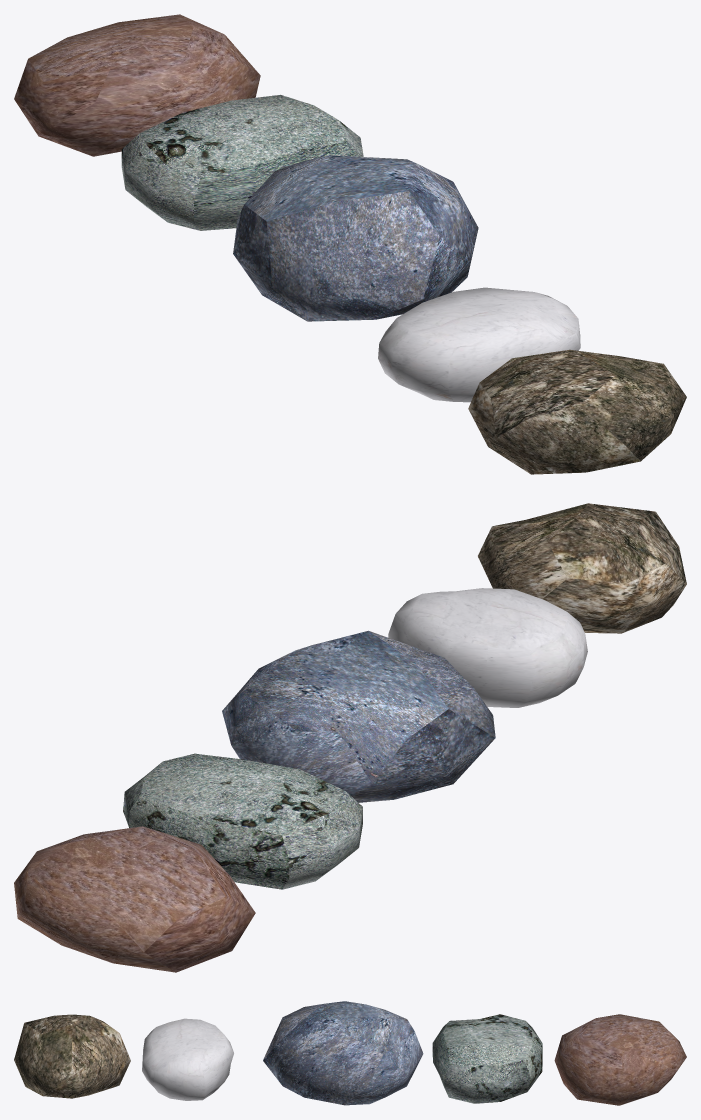
The model's file is RockSet.obj.
The picture shows the model from 3 angles, top to bottom: view 1: azimuth 30°, elevation 25°; view 2: azimuth 150°, elevation 25°; view 3: azimuth 270°, elevation 25°; orthographic projection. The views are drawn at different scales.
Visible parts, largest first — view 1: Icosphere, Icosphere.001, Icosphere.002, Cube_Cube.001, Cube.001_Cube.002; view 2: Icosphere, Icosphere.001, Cube_Cube.001, Icosphere.002, Cube.001_Cube.002; view 3: Icosphere, Icosphere.001, Cube_Cube.001, Icosphere.002, Cube.001_Cube.002.
Boxes of the visible parts, left/top/right/bottom form: Icosphere: left=233, top=155, right=478, bottom=321; Icosphere.001: left=14, top=14, right=260, bottom=156; Icosphere.002: left=468, top=349, right=686, bottom=474; Cube_Cube.001: left=121, top=94, right=363, bottom=230; Cube.001_Cube.002: left=378, top=287, right=580, bottom=402; Icosphere: left=222, top=630, right=495, bottom=802; Icosphere.001: left=14, top=826, right=255, bottom=972; Cube_Cube.001: left=123, top=753, right=362, bottom=889; Icosphere.002: left=478, top=503, right=686, bottom=633; Cube.001_Cube.002: left=388, top=588, right=587, bottom=707; Icosphere: left=263, top=1001, right=423, bottom=1105; Icosphere.001: left=554, top=1014, right=686, bottom=1105; Cube_Cube.001: left=432, top=1014, right=542, bottom=1103; Icosphere.002: left=14, top=1014, right=130, bottom=1098; Cube.001_Cube.002: left=142, top=1018, right=233, bottom=1100.
Size of the model in its own units: 3.05 by 1.62 by 12.74.
